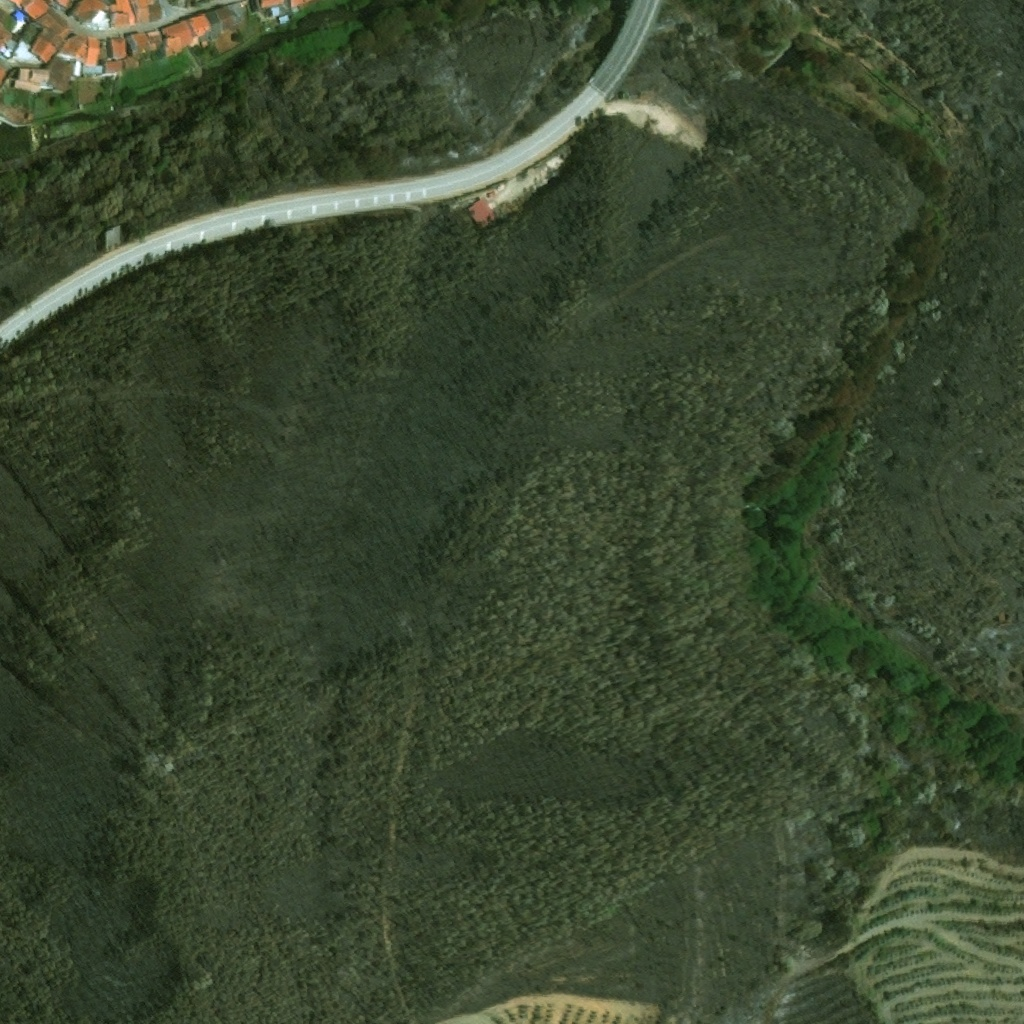0 no-damage: (67, 0, 164, 31), (9, 59, 71, 95), (30, 9, 71, 62), (56, 33, 101, 78), (158, 20, 194, 58), (463, 199, 493, 231), (186, 13, 212, 47), (215, 4, 241, 36), (127, 32, 150, 62), (16, 0, 50, 20), (145, 30, 163, 59), (204, 10, 220, 40), (108, 39, 127, 62), (100, 60, 122, 78), (0, 18, 10, 51), (121, 57, 138, 70), (0, 61, 6, 85), (164, 764, 172, 773), (24, 114, 31, 123)
4 un-classified: (247, 0, 287, 27), (287, 0, 322, 11), (54, 0, 70, 10)
